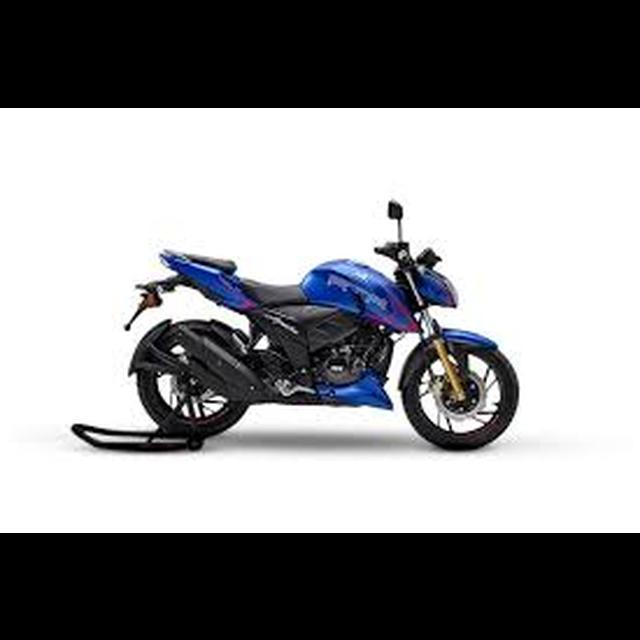motorcycle: (119, 193, 526, 458)
